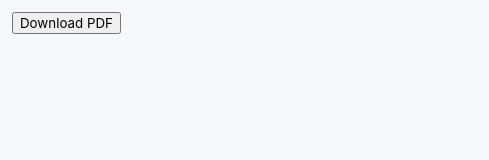
missing PDF explains the problem without opening a chooser
Click the button "Download PDF".
click(66, 23)  # box [12,12,121,34]
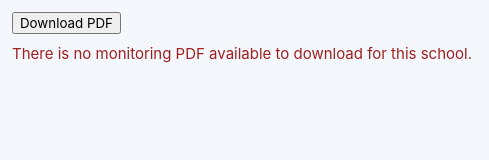
Now the message "There is no monitoring PDF available to download for this school." is shown, box [12,44,472,63]
